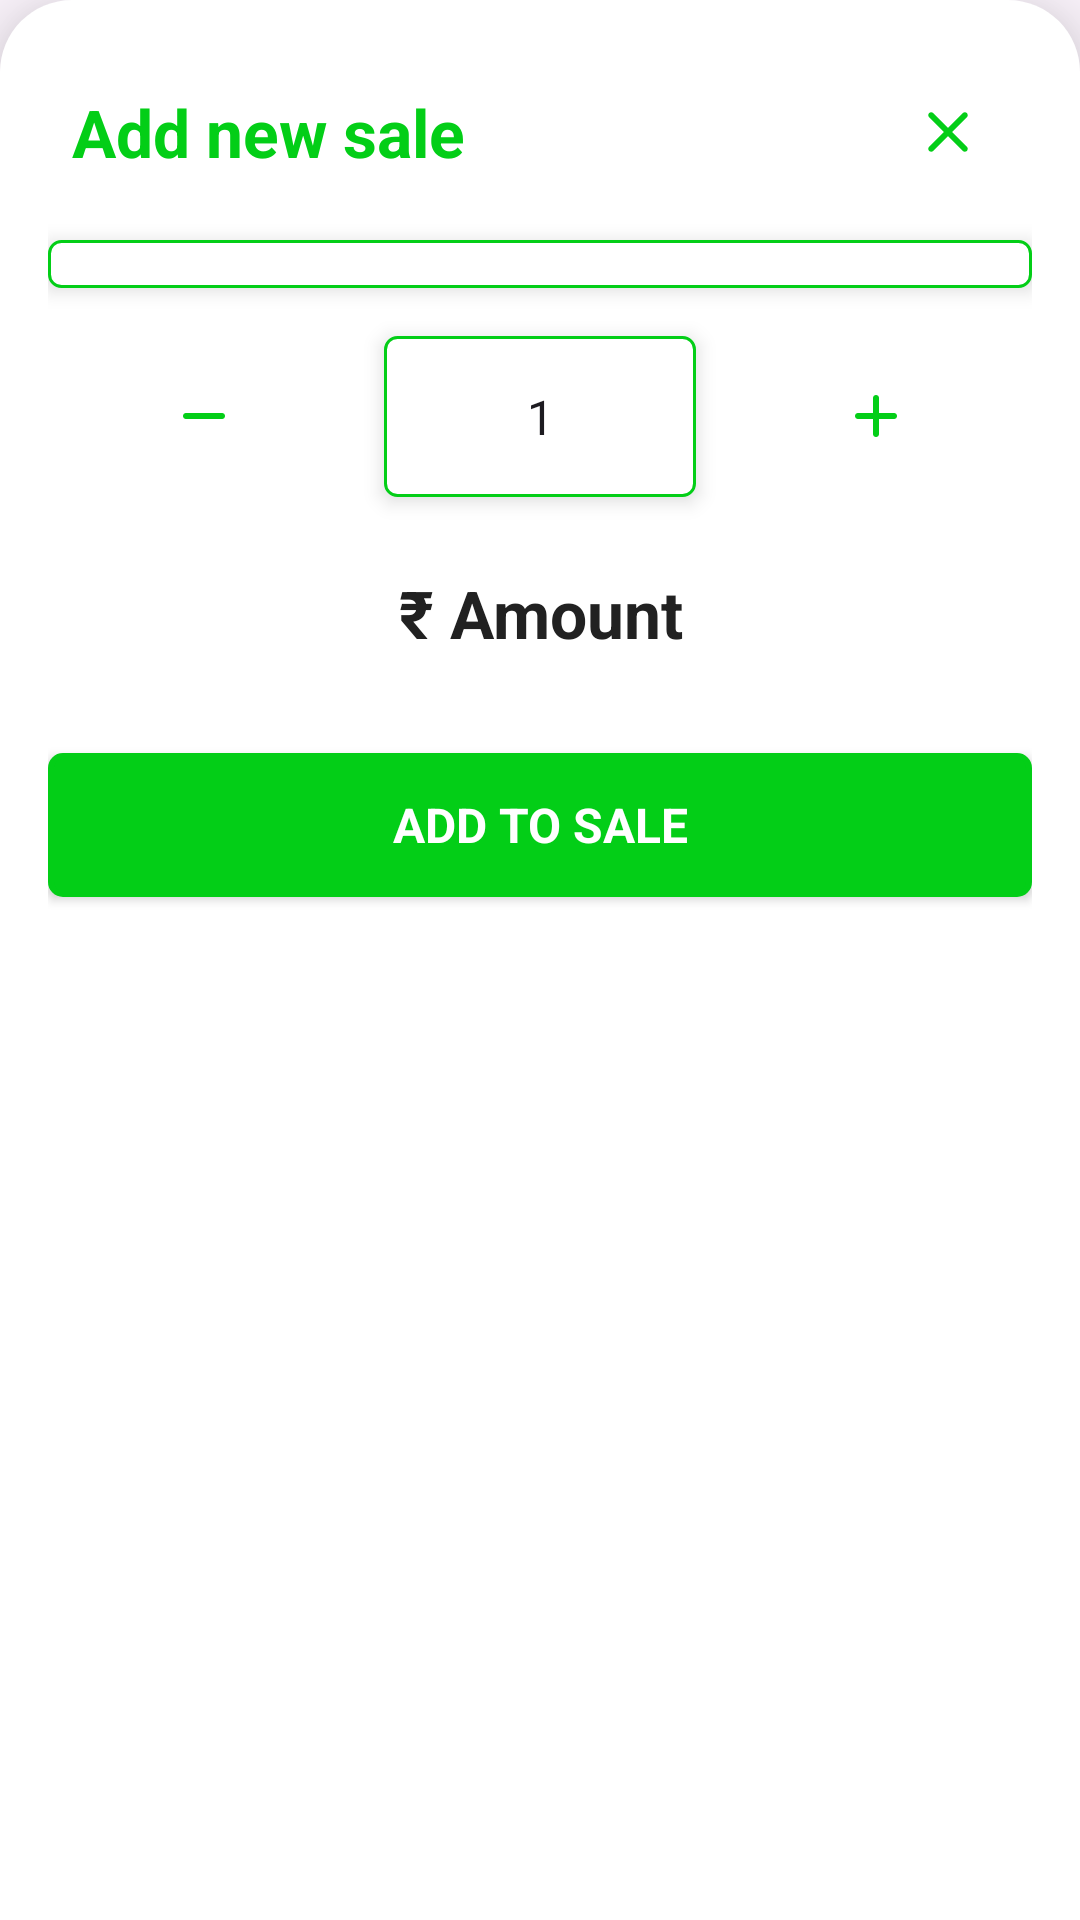

Named icons in this screenshot (1080px×1920px) and their centers, [x,y]:
add: [876,416]
close: [948,132]
